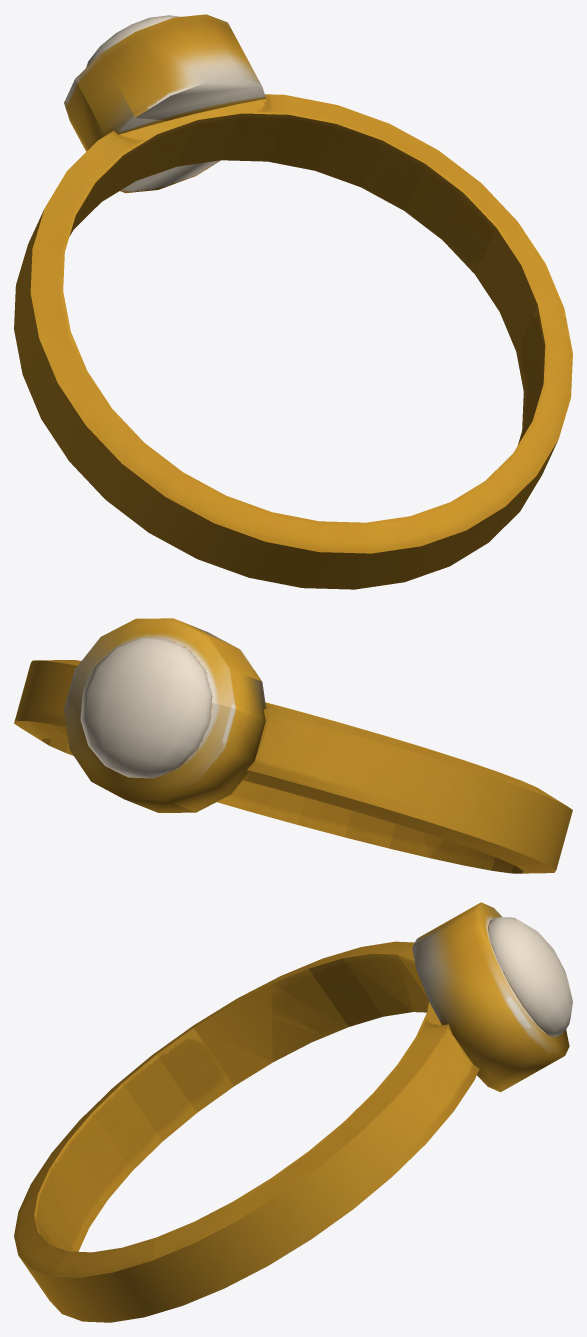
The model's file is item_mm9_10158.glb.
The picture shows the model from 3 angles, top to bottom: view 1: azimuth 30°, elevation 25°; view 2: azimuth 150°, elevation 25°; view 3: azimuth 270°, elevation 25°; orthographic projection. The views are drawn at different scales.
Visible parts, largest first — view 1: d10158; view 2: d10158; view 3: d10158.
Part boxes in pixels (box(x1,y1,x2,y2)): d10158: box(14, 14, 572, 589); d10158: box(14, 618, 572, 873); d10158: box(14, 902, 572, 1322).
Bounding box in the file's own units: 25.43 × 19.69 × 27.
1 material, 1 textured.
